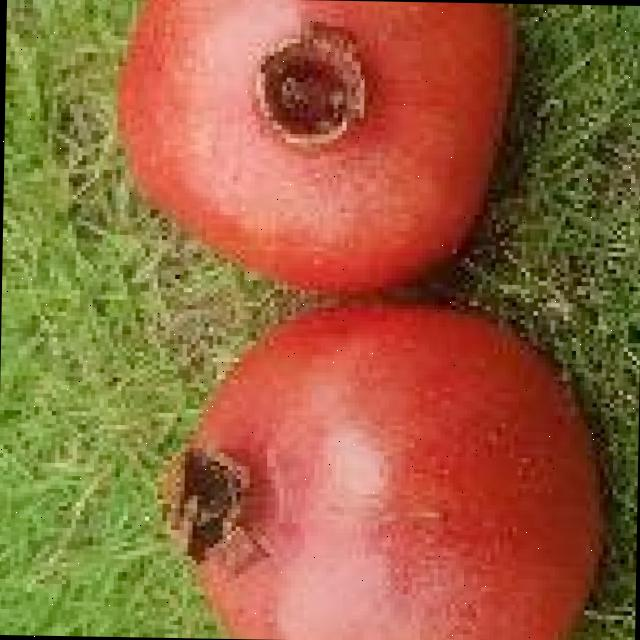Good_Lime-10-21 days: (98, 0, 632, 640)
